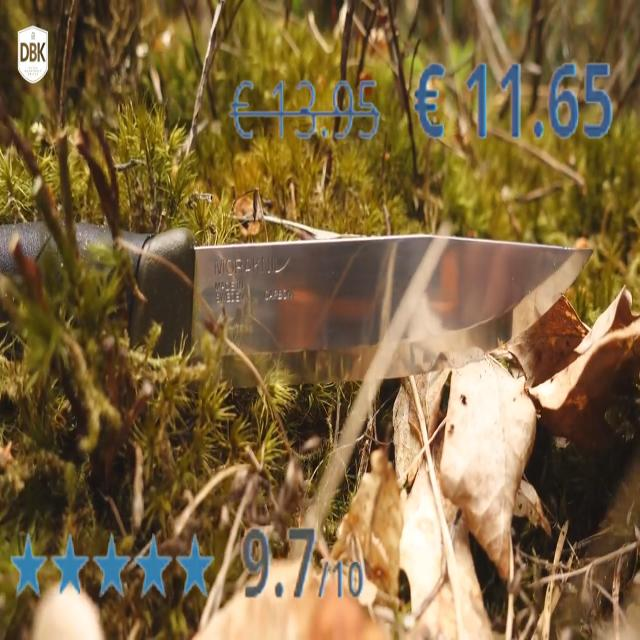knife: (2, 215, 598, 397)
